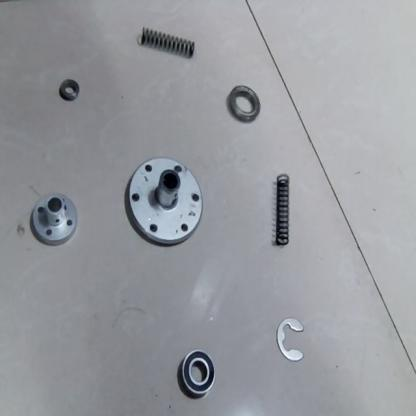FOD: (122, 150, 206, 245), (27, 191, 81, 247), (137, 21, 201, 60), (178, 346, 218, 400), (274, 313, 311, 364), (274, 166, 295, 247), (227, 78, 262, 124), (54, 70, 84, 103)
